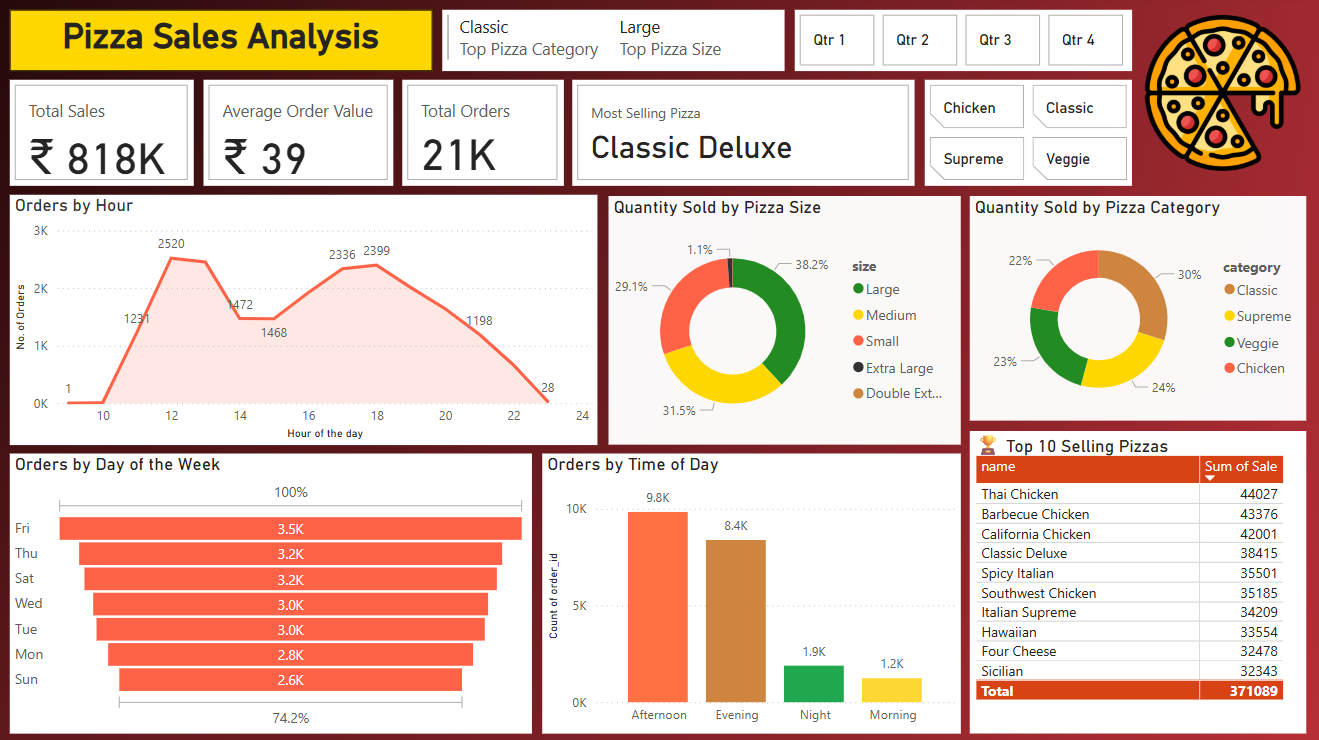

What the dashboard file says about the page in this screenshot:
{"tool":"powerbi","page":{"name":"Page 1","canvas":[1280,720],"ordinal":0},"visuals":[{"type":"funnel","title":"Orders by Day of the Week","fields":{"Category":["orders.Day"],"Y":["CountNonNull(orders.order_id)"]},"box":[13.3,441.6,504.3,270.2],"z":0},{"type":"cardVisual","fields":{"Data":["order_details.Total Sales"]},"box":[13.3,80.8,177.3,102.5],"z":1000},{"type":"tableEx","title":"🏆 Top 10 Selling Pizzas","fields":{"Values":["pizza_types.name","Sum(order_details.Sale)"]},"box":[939.8,419.8,324.5,292],"z":2000},{"type":"columnChart","title":"Orders by Time of Day","fields":{"Category":["orders.Order Time"],"Y":["CountNonNull(orders.order_id)"]},"box":[527.2,441.6,404.2,270.2],"z":3000},{"type":"donutChart","title":"Quantity Sold by Pizza Category","fields":{"Category":["pizza_types.category"],"Y":["Sum(order_details.quantity)"]},"box":[939.8,193,324.5,217.2],"z":4000},{"type":"donutChart","title":"Quantity Sold by Pizza Size","fields":{"Category":["pizzas.size"],"Y":["Sum(order_details.quantity)"]},"box":[591.2,193,340.2,240.1],"z":5000},{"type":"cardVisual","fields":{"Data":["orders.Total Orders"]},"box":[392.1,80.8,155.6,102.5],"z":6000},{"type":"cardVisual","fields":{"Data":["orders.Average Sale per Person"]},"box":[200.3,80.8,183.4,102.5],"z":7000},{"type":"cardVisual","fields":{"Data":["order_details.Most Selling Pizza"]},"box":[556.2,80.8,330.6,102.5],"z":8000},{"type":"lineChart","title":"Orders by Hour","fields":{"Category":["orders.Hour"],"Y":["Count(orders.order_id)"]},"box":[13.3,191.8,567,241.3],"z":9000},{"type":"image","box":[1103.9,0,160.5,187],"z":10000},{"type":"textbox","box":[13.3,13.3,407.8,59.1],"z":11000},{"type":"advancedSlicerVisual","title":"Quarter Filter","fields":{"Values":["orders.date.Variation.Date Hierarchy.Quarter"]},"box":[770.9,13.3,325.7,59.1],"z":12000},{"type":"multiRowCard","fields":{"Values":["pizza_types.Top Pizza Category","pizzas.Top Pizza Size"]},"box":[430.7,13.3,330.6,59.1],"z":13000},{"type":"advancedSlicerVisual","title":"Quarter Filter","fields":{"Values":["pizza_types.category"]},"box":[896.4,80.8,200.3,102.5],"z":14000}]}

Visuals, with their boxes in screenshot pixels (x1, y1, x2, y2), scaled from the page's 1280x720 canvas onto the 1319x740 screenshot:
"Orders by Day of the Week" funnel: crop(14, 454, 533, 732)
cardVisual - order_details.Total Sales: crop(14, 83, 196, 188)
"🏆 Top 10 Selling Pizzas" tableEx: crop(968, 431, 1303, 732)
"Orders by Time of Day" columnChart: crop(543, 454, 960, 732)
"Quantity Sold by Pizza Category" donutChart: crop(968, 198, 1303, 422)
"Quantity Sold by Pizza Size" donutChart: crop(609, 198, 960, 445)
cardVisual - orders.Total Orders: crop(404, 83, 564, 188)
cardVisual - orders.Average Sale per Person: crop(206, 83, 395, 188)
cardVisual - order_details.Most Selling Pizza: crop(573, 83, 914, 188)
"Orders by Hour" lineChart: crop(14, 197, 598, 445)
image: crop(1138, 0, 1303, 192)
textbox: crop(14, 14, 434, 74)
"Quarter Filter" advancedSlicerVisual: crop(794, 14, 1130, 74)
multiRowCard - pizza_types.Top Pizza Category x pizzas.Top Pizza Size: crop(444, 14, 784, 74)
"Quarter Filter" advancedSlicerVisual: crop(924, 83, 1130, 188)
